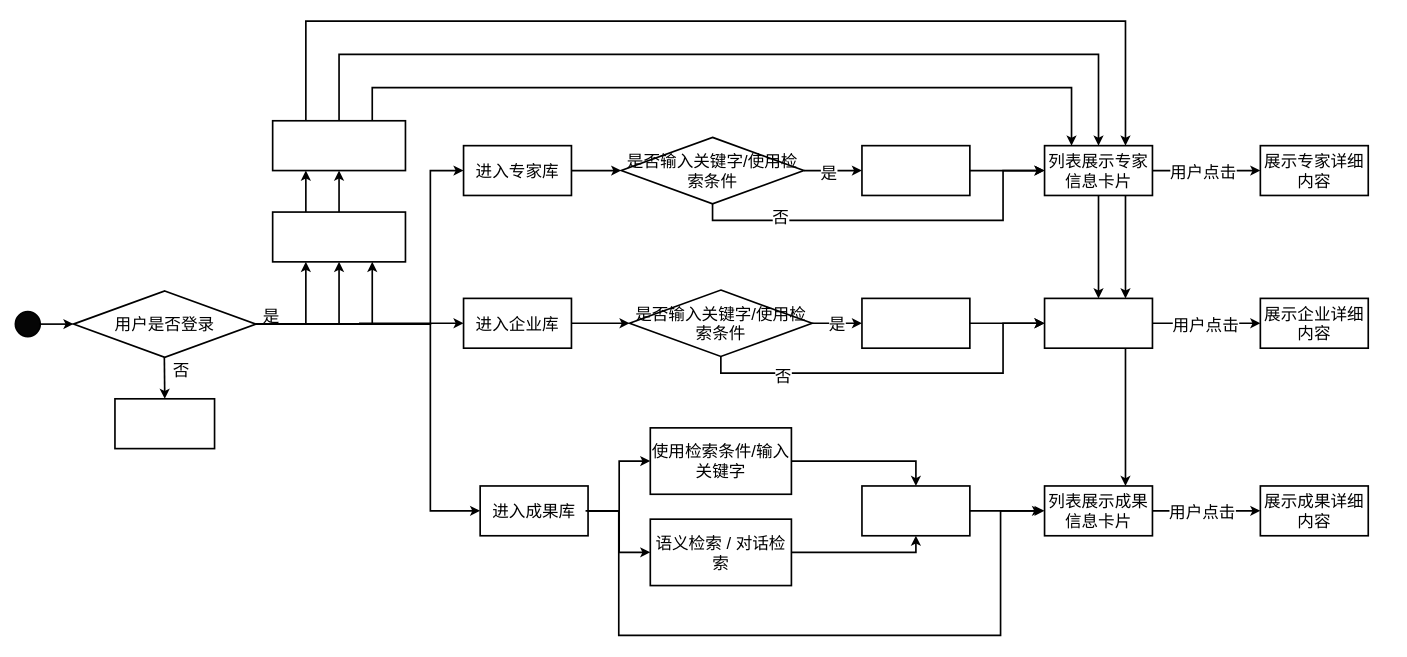
Image size: 1407x657. Some labels were removed from this diagram. Each missing label, with the centre of its shape:
"主页混合检索" belongs at pixel 338 236.
"列表展示企业信息卡片" belongs at pixel 1098 323.
"搜索历史查阅" belongs at pixel 338 145.
"用户登录" belongs at pixel 164 423.
"筛选专家信息" belongs at pixel 915 170.
"筛选企业信息" belongs at pixel 915 323.
"筛选过滤成果信息" belongs at pixel 915 510.
